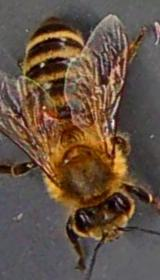varroa_mite: (32, 103, 59, 126)
